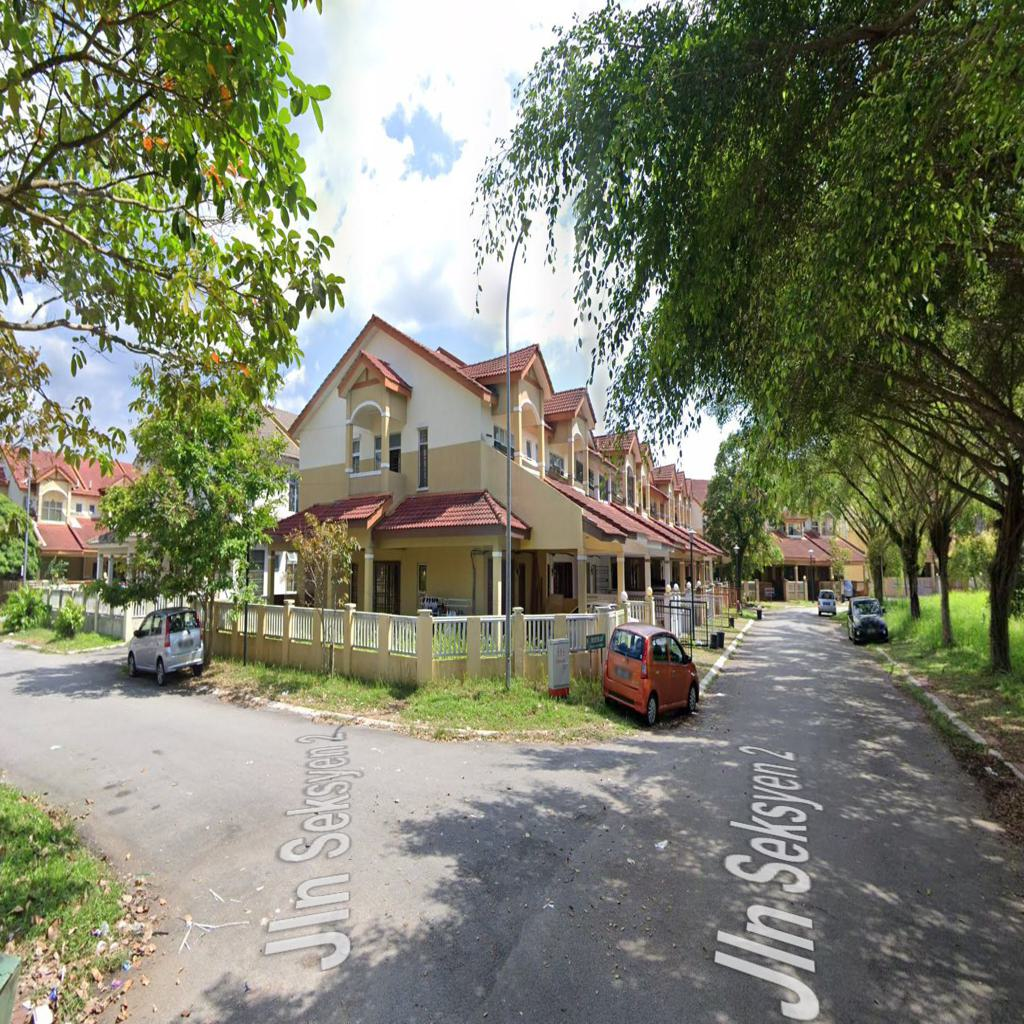Junction: (11, 671, 556, 987)
